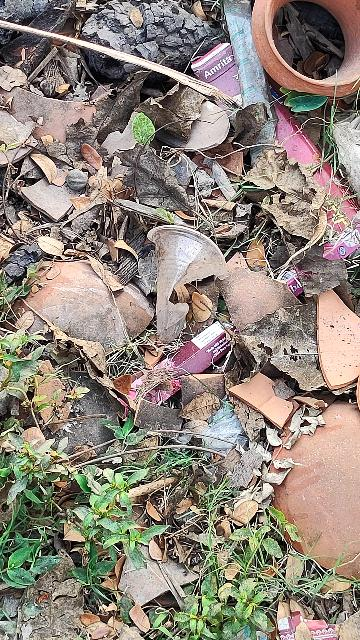hardplastic: (147, 226, 235, 343)
